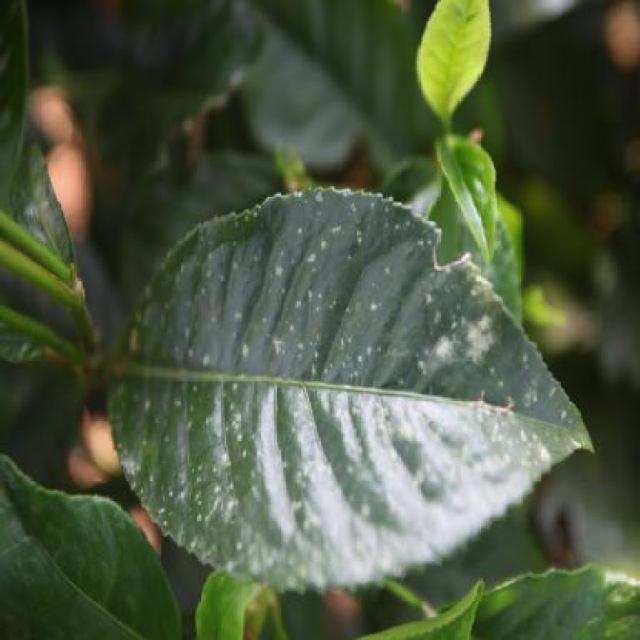White spot of tea: (83, 195, 600, 560)
